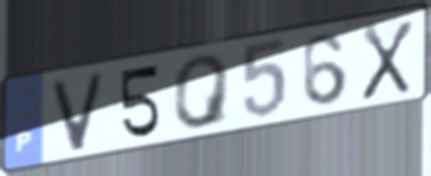5: (238, 34, 289, 123), (118, 64, 163, 141)
6: (300, 30, 352, 111)
Q: (170, 50, 235, 132)
V: (49, 68, 107, 155)
X: (358, 16, 416, 104)
